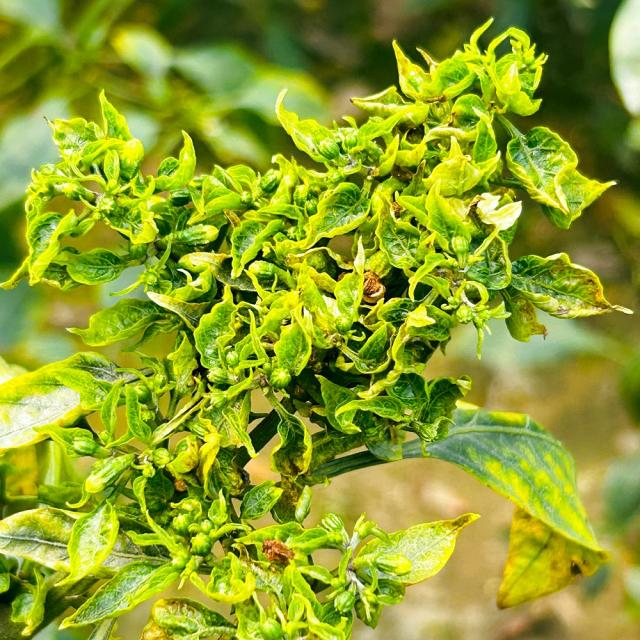Chilli_Leaf_Curl: (1, 16, 632, 637), (306, 400, 610, 609)
